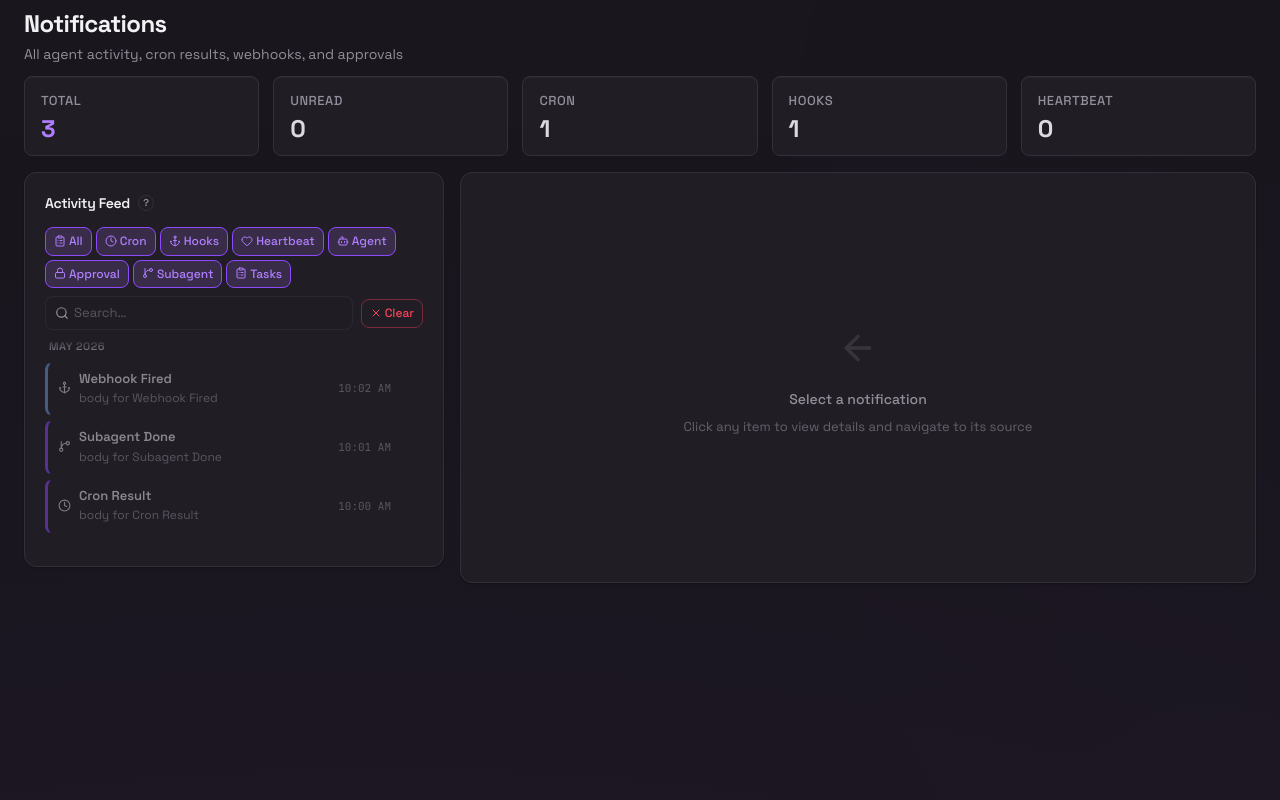
Test: NotificationsPage multi-select filter › clicking a single category in the all-selected state deselects only that category
The image size is (1280, 800).
What coordinates should you click on to do the following:
click the button "Subagent"
I would click on:
 (178, 274)
Its box is 133,260 -> 222,288.
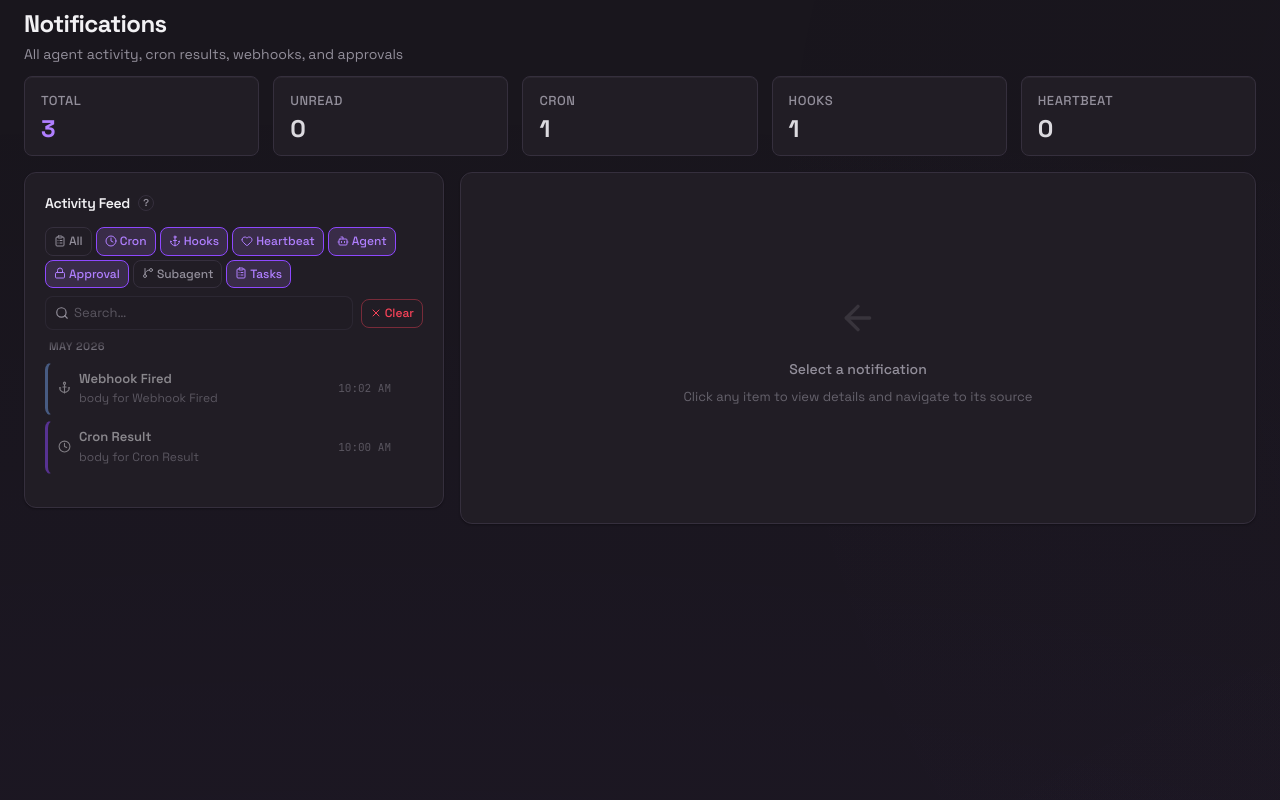
Expected: the text "Cron Result" is shown, 79,428 -> 151,445
Result: the button "Subagent Done" is gone
